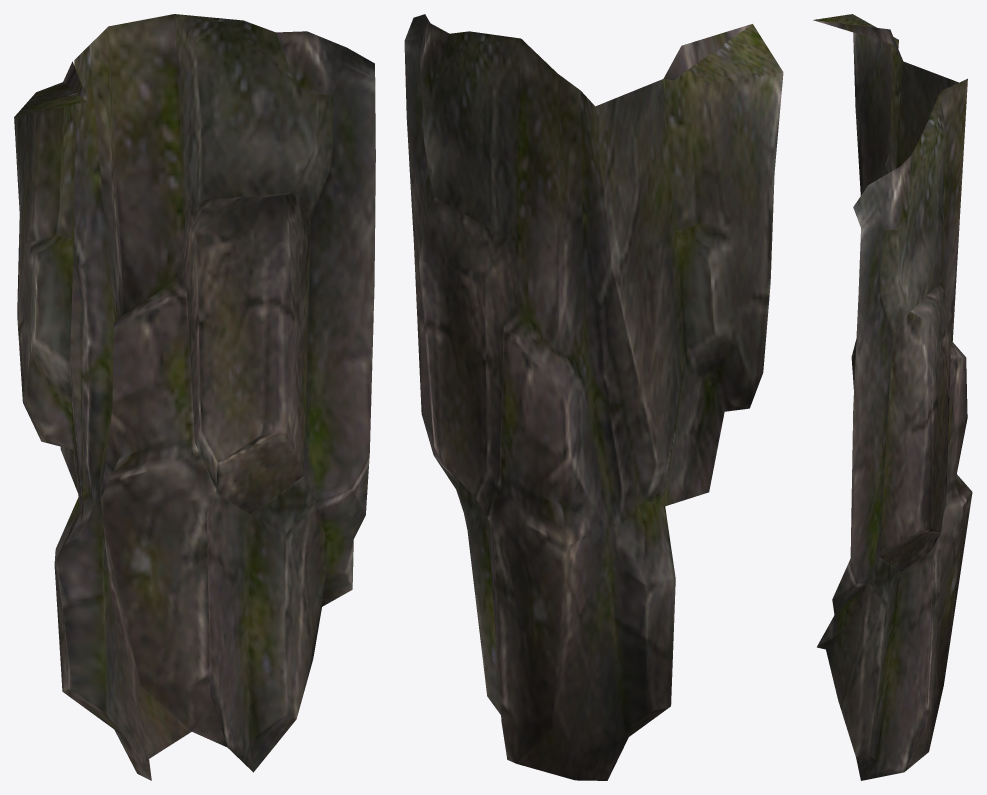
Rendered from S2_Build_XSC077_L2.FBX.
3 views of the same model, side by side, from view 1: azimuth 30°, elevation 25°; view 2: azimuth 150°, elevation 25°; view 3: azimuth 270°, elevation 25° (orthographic). The views are drawn at different scales.
Visible parts, largest first — view 1: S2_Build_XSC077_L2; view 2: S2_Build_XSC077_L2; view 3: S2_Build_XSC077_L2.
Boxes of the visible parts, x1=… form: S2_Build_XSC077_L2: x1=14, y1=14, x2=375, y2=780; S2_Build_XSC077_L2: x1=404, y1=14, x2=783, y2=780; S2_Build_XSC077_L2: x1=813, y1=14, x2=972, y2=780.
Bounding box in the file's own units: 2521 × 4875 × 1043.
